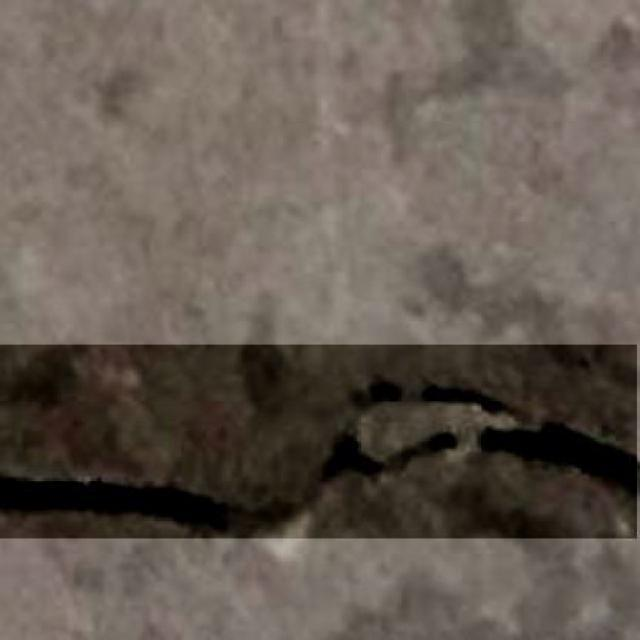crack: (0, 350, 640, 556)
